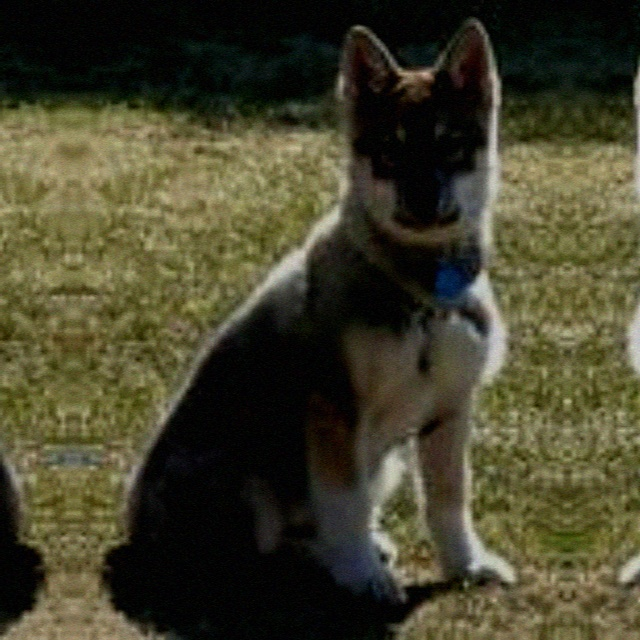dog: (110, 24, 535, 602), (601, 24, 640, 601), (0, 24, 37, 601)
